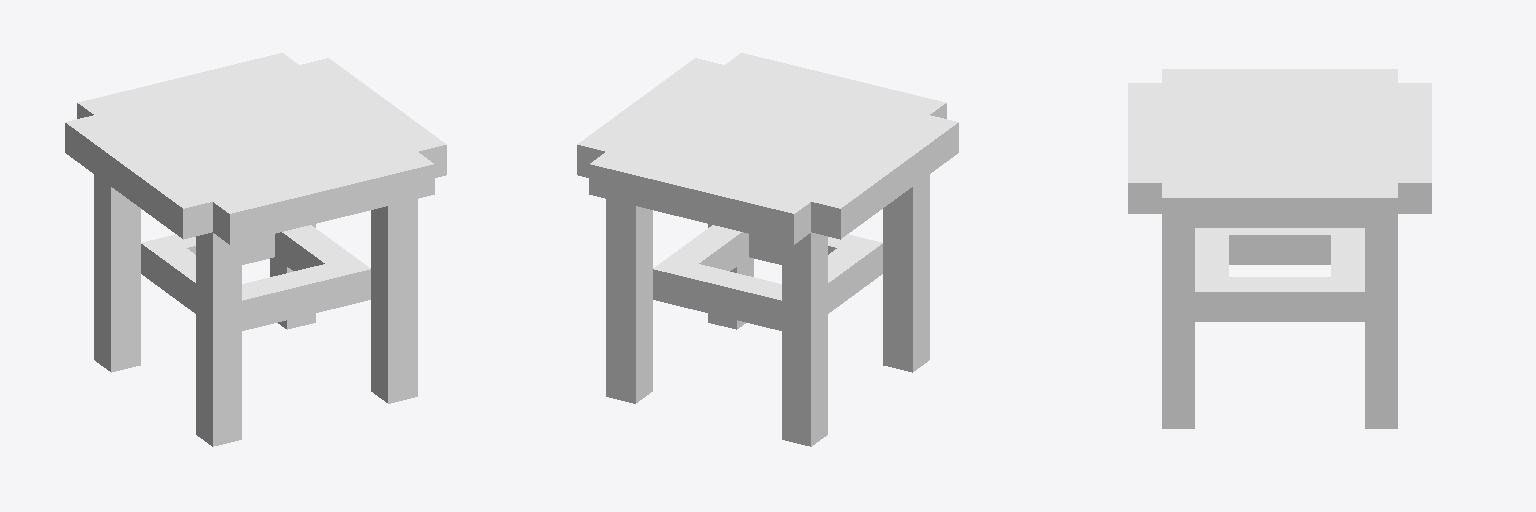
File: Interior_Furniture-10.obj
The picture shows the model from 3 angles: view 1: azimuth 30°, elevation 25°; view 2: azimuth 150°, elevation 25°; view 3: azimuth 270°, elevation 25°; orthographic projection.
Parts seen in each view (by area): view 1: object 1; view 2: object 1; view 3: object 1.
Boxes of the visible parts, x1=… form: object 1: x1=65, y1=53, x2=446, y2=446; object 1: x1=577, y1=53, x2=958, y2=446; object 1: x1=1128, y1=69, x2=1431, y2=428.
Size of the model in its own units: 0.9 by 0.8 by 0.9.